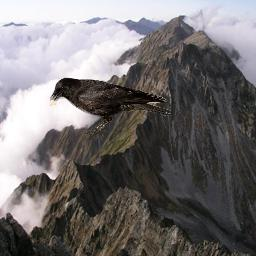Crow: (48, 77, 171, 137)
